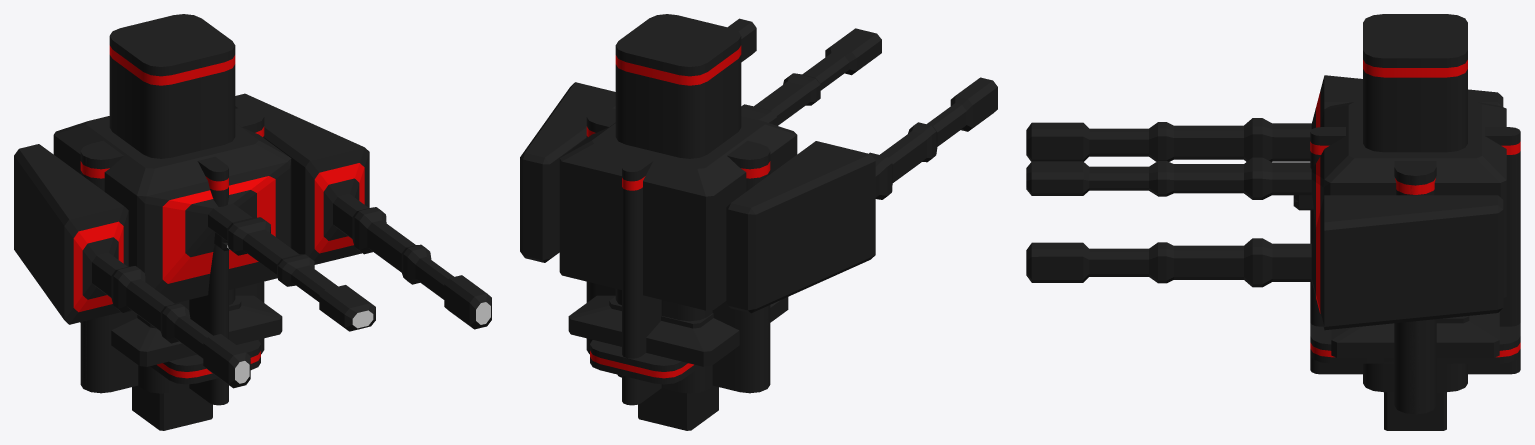
The model's file is Obstacle.fbx.
3 renders of one model, left to right at view 1: azimuth 30°, elevation 25°; view 2: azimuth 150°, elevation 25°; view 3: azimuth 270°, elevation 25°, orthographic. The views are drawn at different scales.
Visible parts, largest first — view 1: TurretBossMainHead, TurretBossLeftHead, Column, TurretBossRightHead, ColumnSlim, Column4, TurretBoss, Turret0, Plate; view 2: TurretBossMainHead, TurretBossLeftHead, Column, TurretBossRightHead, Column4, ColumnSlim, TurretBoss, Plate, Turret0; view 3: TurretBossRightHead, TurretBossMainHead, Column, TurretBossLeftHead, Column4, ColumnSlim, TurretBoss, Plate, Turret0.
Part boxes in pixels (left/top/right/bottom): TurretBossMainHead: left=53, top=116, right=375, bottom=331; TurretBossLeftHead: left=14, top=144, right=250, bottom=388; Column: left=109, top=14, right=235, bottom=393; TurretBossRightHead: left=235, top=93, right=491, bottom=329; ColumnSlim: left=80, top=107, right=264, bottom=393; Column4: left=82, top=110, right=262, bottom=405; TurretBoss: left=80, top=295, right=282, bottom=366; Turret0: left=132, top=237, right=229, bottom=430; Plate: left=150, top=340, right=260, bottom=384; TurretBossMainHead: left=559, top=28, right=881, bottom=310; TurretBossLeftHead: left=726, top=77, right=997, bottom=313; Column: left=615, top=14, right=741, bottom=393; TurretBossRightHead: left=520, top=18, right=756, bottom=262; Column4: left=588, top=110, right=768, bottom=405; ColumnSlim: left=586, top=107, right=770, bottom=393; TurretBoss: left=568, top=295, right=788, bottom=366; Plate: left=590, top=340, right=700, bottom=384; Turret0: left=638, top=385, right=718, bottom=430; TurretBossRightHead: left=1026, top=195, right=1503, bottom=330; TurretBossMainHead: left=1026, top=102, right=1506, bottom=297; Column: left=1363, top=14, right=1467, bottom=392; TurretBossLeftHead: left=1026, top=75, right=1503, bottom=161; Column4: left=1310, top=127, right=1520, bottom=414; ColumnSlim: left=1394, top=161, right=1436, bottom=414; TurretBoss: left=1331, top=312, right=1499, bottom=357; Plate: left=1310, top=323, right=1520, bottom=363; Turret0: left=1293, top=199, right=1446, bottom=430.
Size of the model in its own units: 3.42 by 4.7 by 4.
